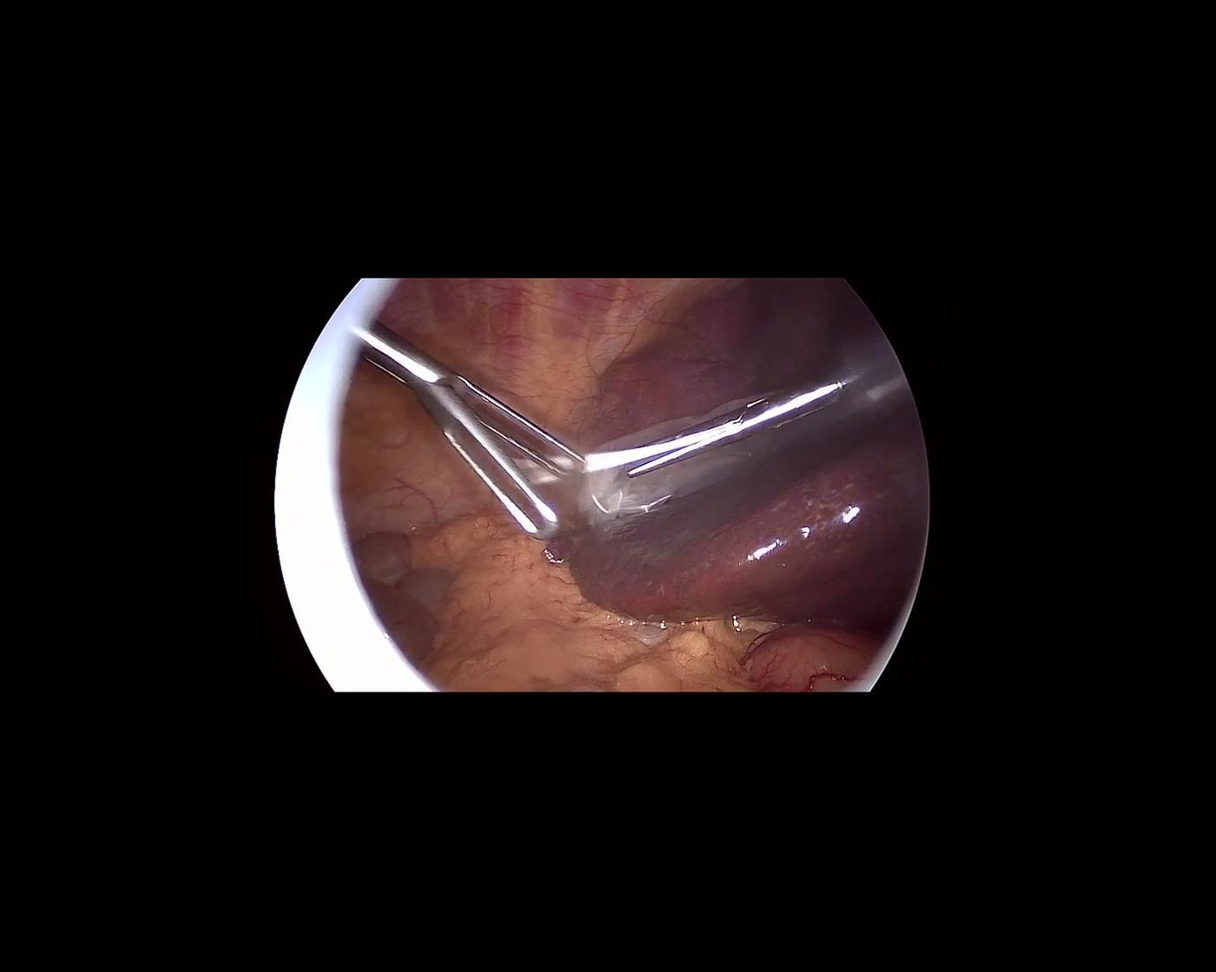Bag: (517, 376, 781, 545)
Forceps: (320, 317, 601, 550), (617, 347, 907, 479)
Liver: (544, 380, 977, 705)
